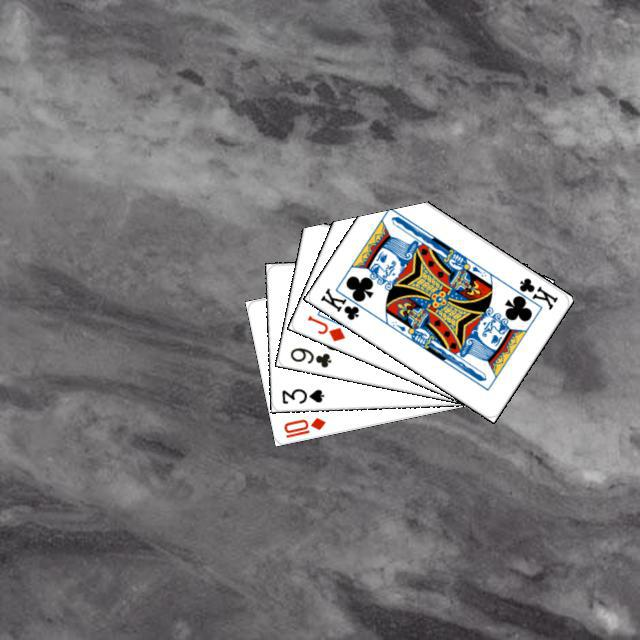10d: (279, 412, 327, 439)
3s: (277, 384, 326, 405)
9c: (285, 343, 333, 369)
Jd: (303, 310, 347, 343)
Kc: (315, 283, 369, 322), (505, 273, 560, 311)
